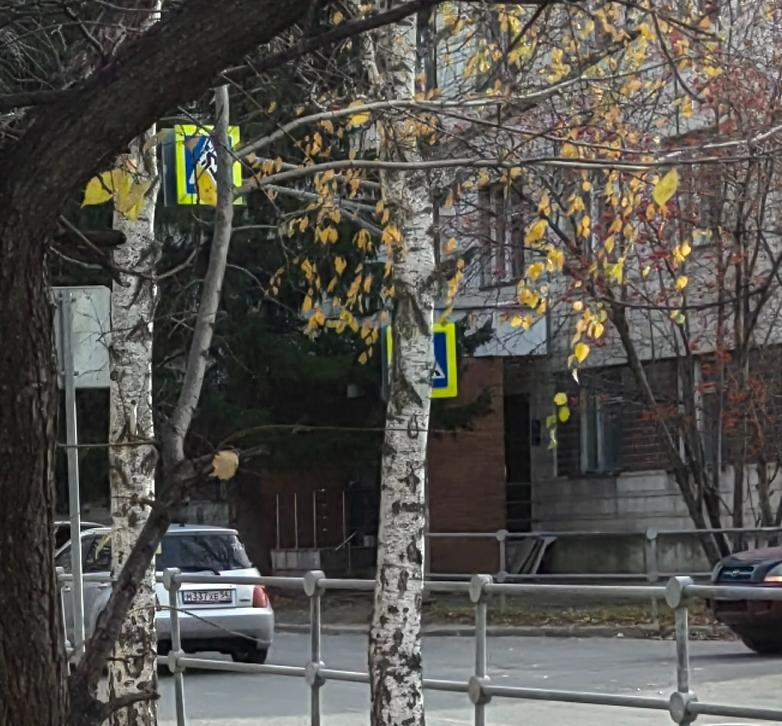obstructed_road_sign: (386, 323, 458, 399), (176, 125, 244, 205)
